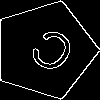C: (19, 25, 79, 84)
